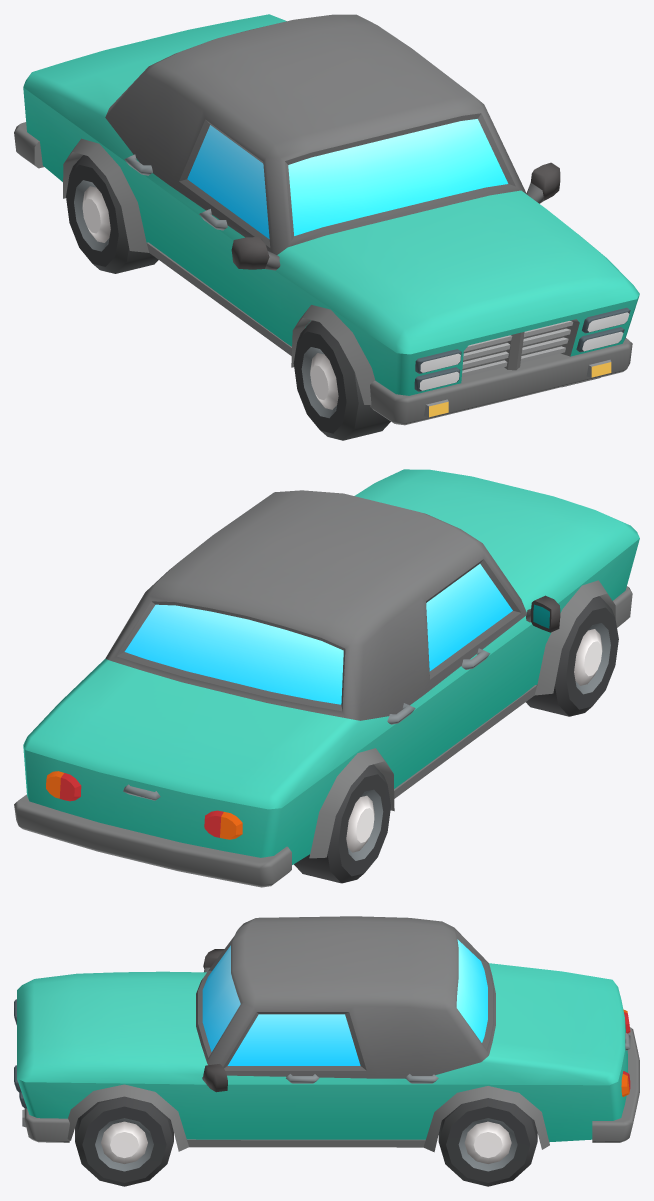
The model's file is Car_03.glb.
3 views of the same model, one above another, from view 1: azimuth 30°, elevation 25°; view 2: azimuth 150°, elevation 25°; view 3: azimuth 270°, elevation 25° (orthographic). The views are drawn at different scales.
Parts seen in each view (by area): view 1: Car_03, Wheel_041, Wheel_042; view 2: Car_03, Wheel_041, Wheel_042; view 3: Car_03, Wheel_043, Wheel_044.
Boxes of the visible parts, <box> form: Car_03: <box>14,14,639,425</box>; Wheel_041: <box>293,320,390,440</box>; Wheel_042: <box>66,155,158,273</box>; Car_03: <box>14,469,639,887</box>; Wheel_041: <box>526,596,618,716</box>; Wheel_042: <box>294,764,390,883</box>; Car_03: <box>14,916,639,1152</box>; Wheel_043: <box>75,1096,173,1186</box>; Wheel_044: <box>438,1098,537,1186</box>.
Bounding box in the file's own units: 2.55 × 1.78 × 5.36.
Materials: 2 (2 with a texture image).
